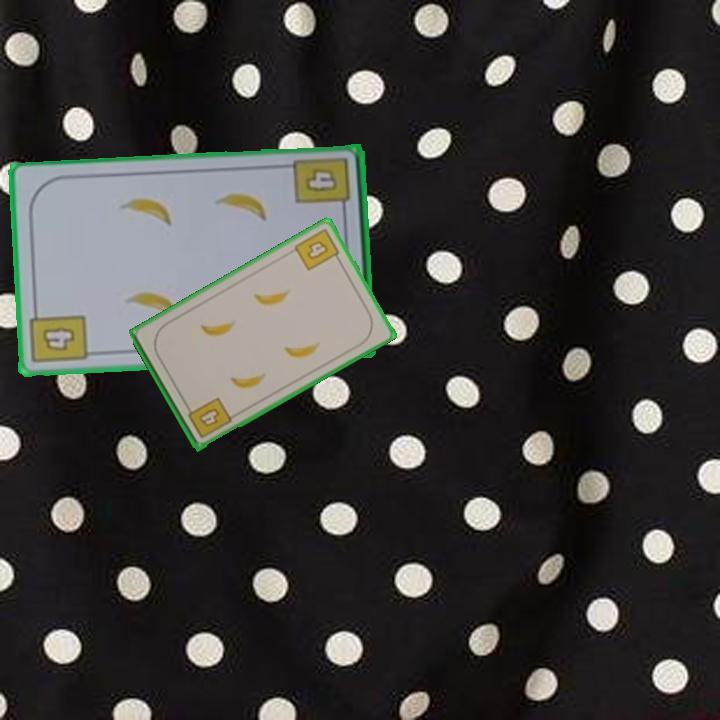4b: (291, 154, 354, 219), (27, 303, 90, 367), (291, 225, 344, 274), (182, 393, 234, 441)
